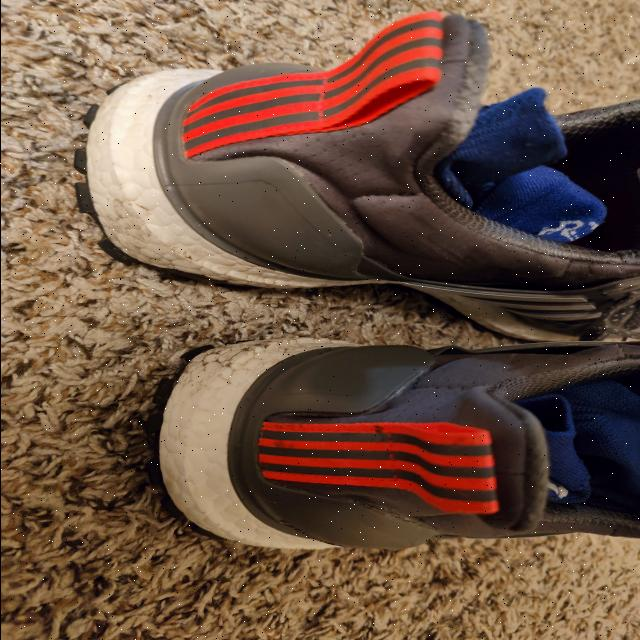black shoes: (88, 9, 640, 550)
